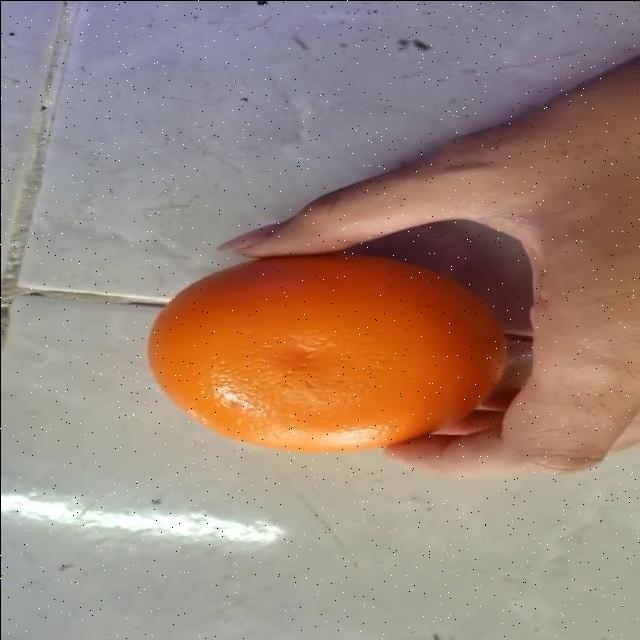Orange: (145, 253, 508, 455)
